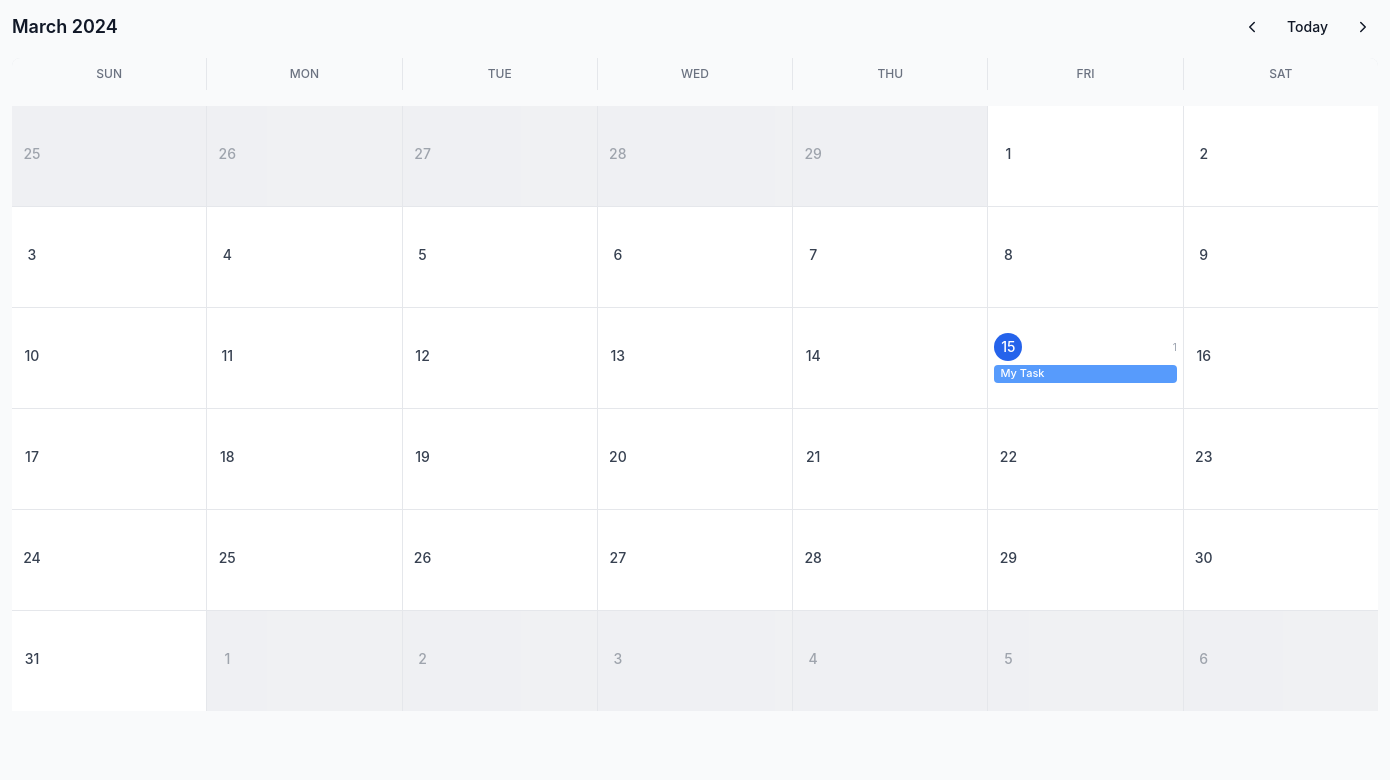
Test case: CalendarView › clicking a day cell opens detail panel; clicking Close hides it
Click the button "15 1 My Task" at coordinates (1086, 358), box [988, 308, 1183, 408]
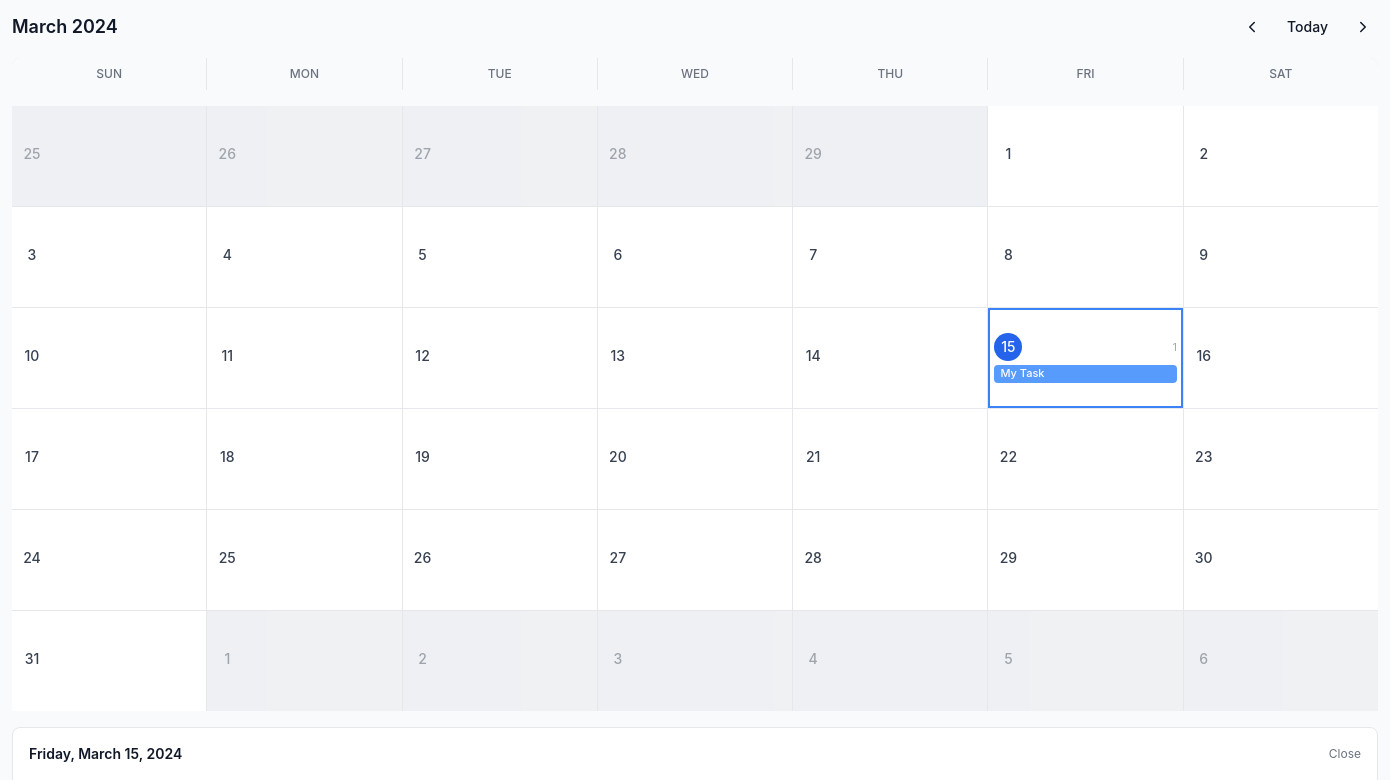
Expected: the heading "Friday, March 15, 2024" is shown, [29, 744, 182, 764]
// Close the panel
Click the button "Close" at coordinates (1345, 754), box [1329, 746, 1361, 762]
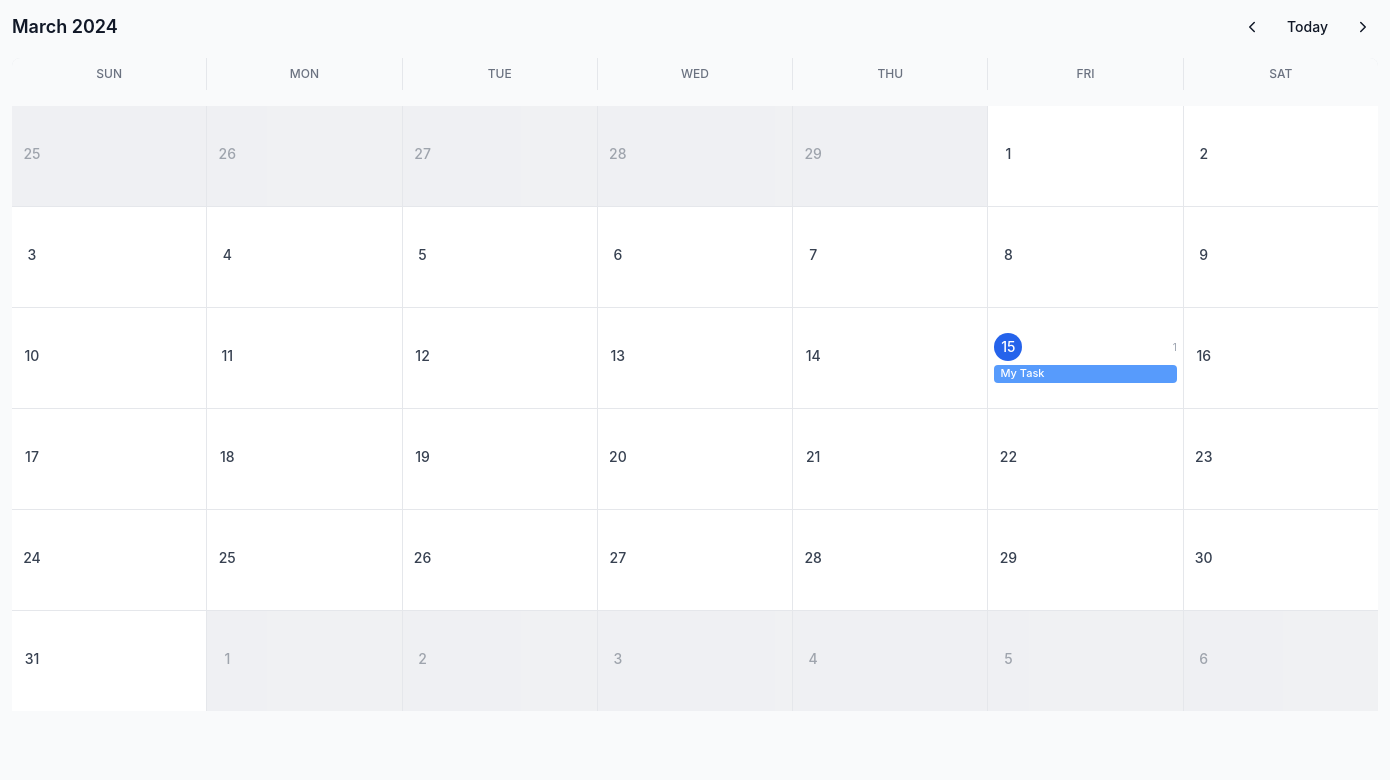
Expected: the heading "Friday, March 15, 2024" is gone
